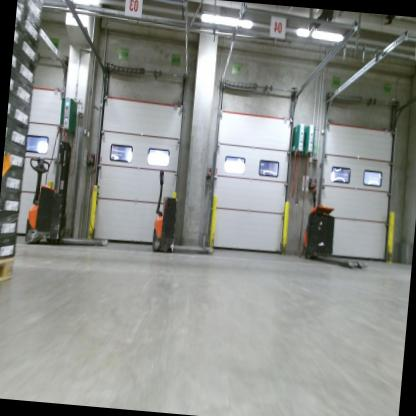pallet: (0, 254, 16, 287)
pallet_truck: (19, 148, 117, 253), (291, 175, 377, 276), (147, 162, 227, 258)
